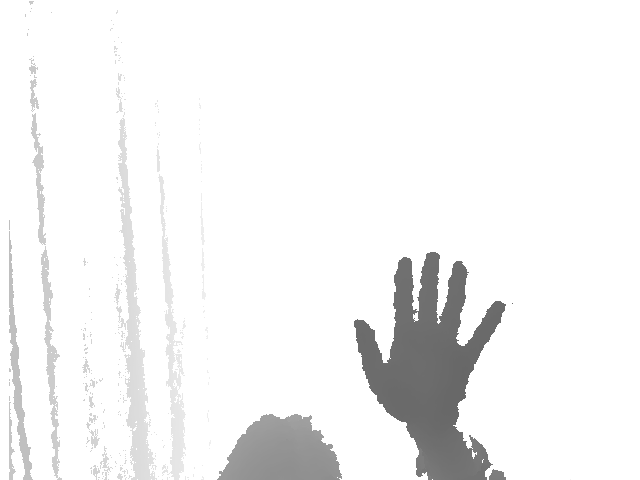hand: (353, 252, 506, 438)
head: (220, 412, 343, 480)
person: (220, 252, 508, 480)
